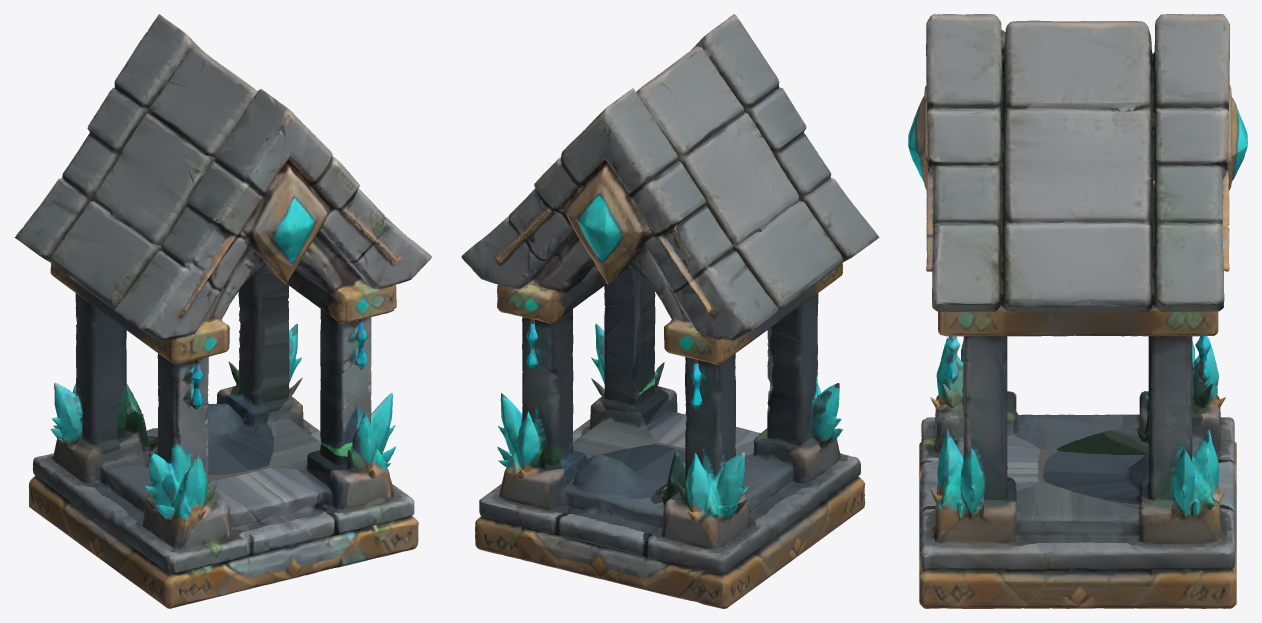
Rendered from shrine.glb.
3 renders of one model, left to right at view 1: azimuth 30°, elevation 25°; view 2: azimuth 150°, elevation 25°; view 3: azimuth 270°, elevation 25°, orthographic. The views are drawn at different scales.
Parts seen in each view (by area): view 1: model.029; view 2: model.029; view 3: model.029.
Boxes of the visible parts, x1=… form: model.029: x1=14, y1=14, x2=431, y2=608; model.029: x1=461, y1=14, x2=879, y2=608; model.029: x1=908, y1=14, x2=1247, y2=608.
Bounding box in the file's own units: 1.25 × 1.9 × 1.11.
1 material, 1 textured.
